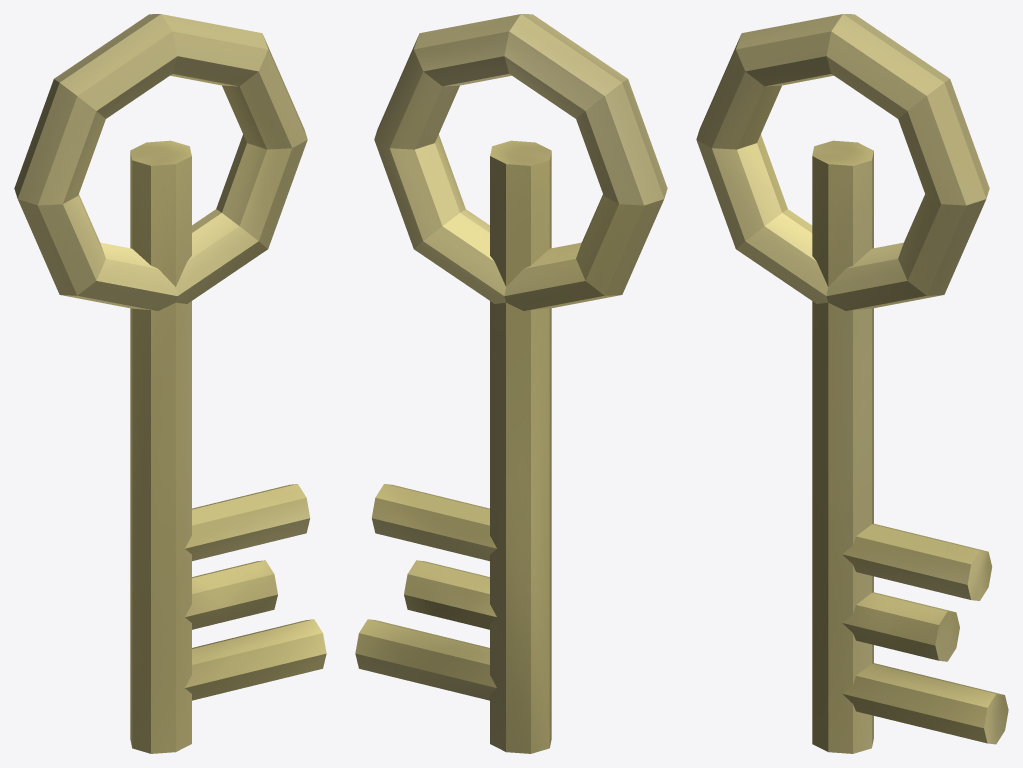
The model's file is Key.fbx.
3 views of the same model, side by side, from view 1: azimuth 30°, elevation 25°; view 2: azimuth 150°, elevation 25°; view 3: azimuth 330°, elevation 25° (orthographic).
Parts seen in each view (by area): view 1: Cylinder.001; view 2: Cylinder.001; view 3: Cylinder.001.
Boxes of the visible parts, box(x1,y1,x2,y2) form: Cylinder.001: box(14, 14, 326, 753); Cylinder.001: box(355, 14, 667, 753); Cylinder.001: box(696, 14, 1008, 753).
Bounding box in the file's own units: 259 × 606 × 50.
